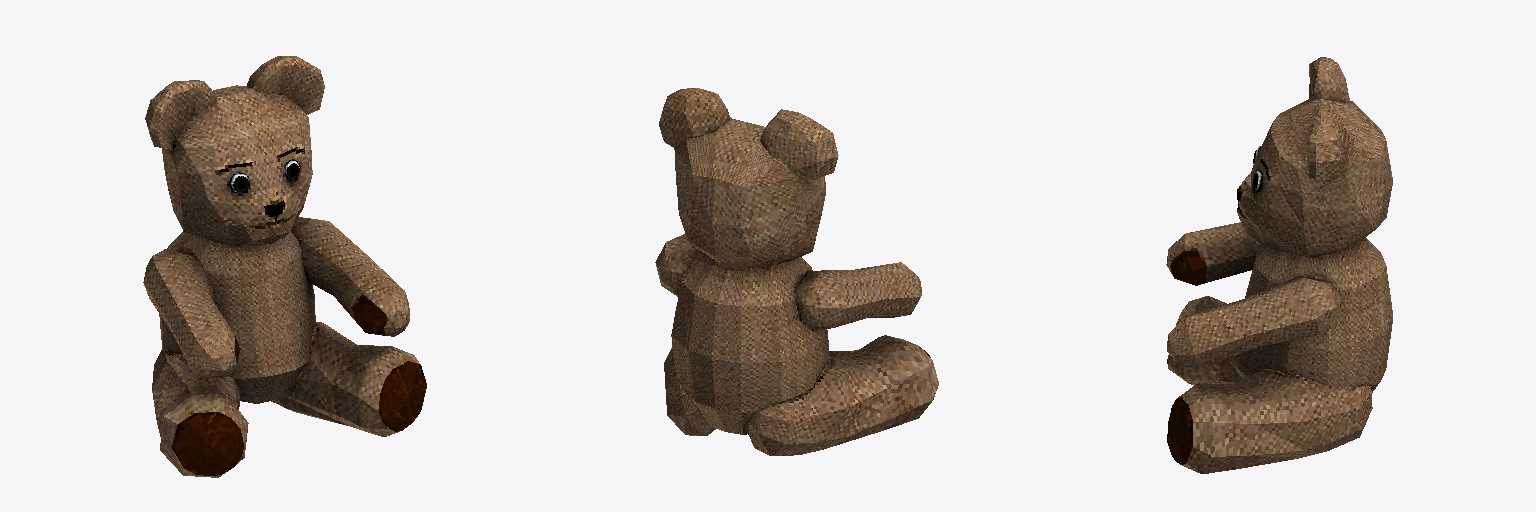
3 views of the same model, side by side, from view 1: azimuth 30°, elevation 25°; view 2: azimuth 150°, elevation 25°; view 3: azimuth 270°, elevation 25° (orthographic).
Parts seen in each view (by area): view 1: teddybear; view 2: teddybear; view 3: teddybear.
Part boxes in pixels (x1,y1,x2,y2): teddybear: (143,56,426,477); teddybear: (655,88,938,455); teddybear: (1166,57,1392,473).
Bounding box in the file's own units: 34.61 × 43.39 × 26.09.
Materials: 1 (1 with a texture image).